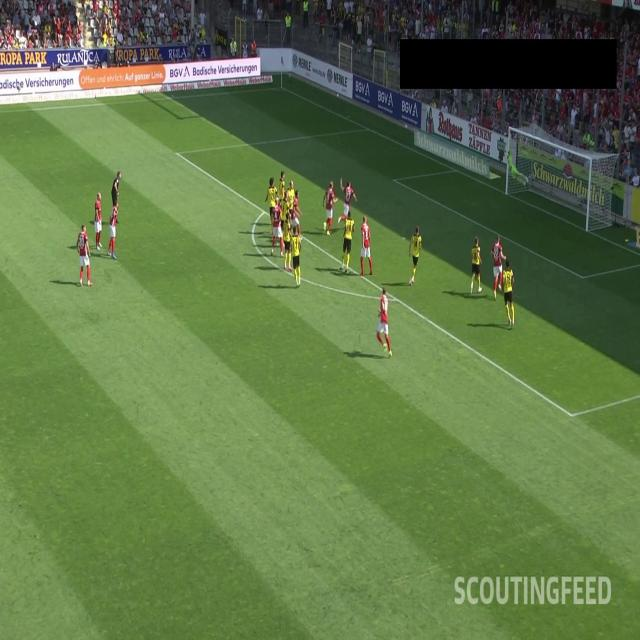player: (376, 285, 394, 358), (488, 235, 508, 299), (501, 146, 529, 188), (76, 223, 94, 287), (501, 258, 517, 330), (357, 211, 374, 276), (338, 171, 358, 226), (406, 224, 424, 284), (321, 178, 339, 237), (262, 174, 278, 239), (340, 208, 355, 274), (269, 199, 284, 259), (290, 222, 303, 287), (469, 235, 483, 295), (106, 201, 120, 260), (92, 189, 105, 251), (291, 180, 304, 242), (282, 212, 292, 271), (285, 175, 295, 233), (278, 166, 287, 224)
referee: (110, 168, 122, 230)
